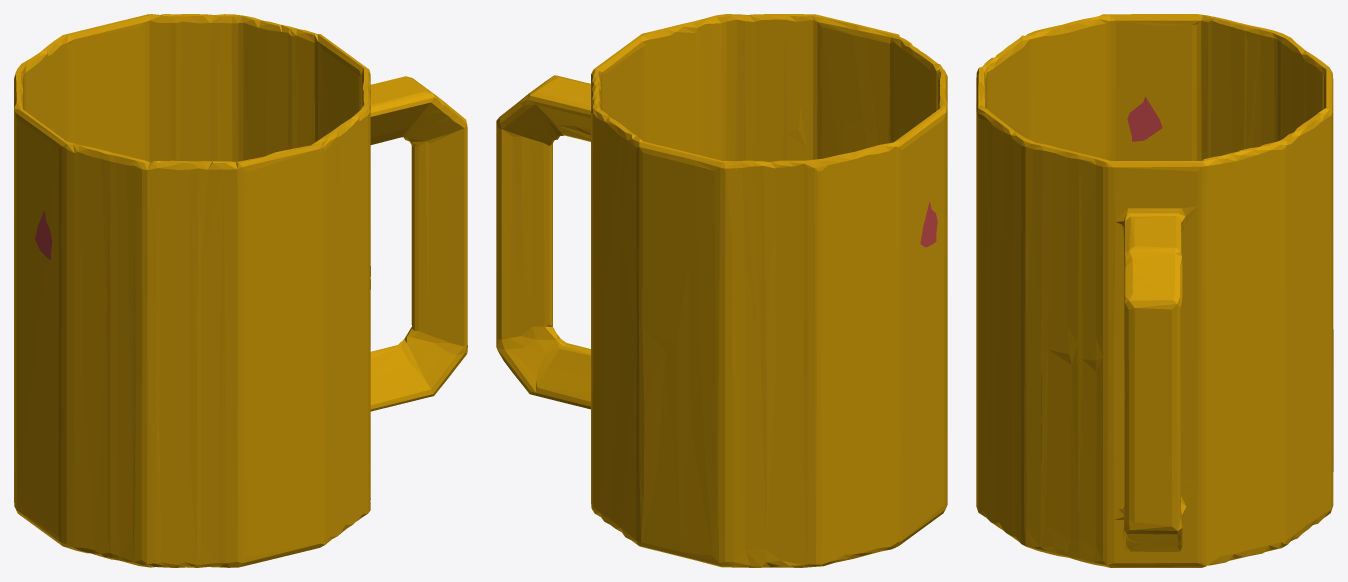
The model's file is fractured_72_2pcs.glb.
3 renders of one model, left to right at view 1: azimuth 30°, elevation 25°; view 2: azimuth 150°, elevation 25°; view 3: azimuth 270°, elevation 25°, orthographic.
Parts seen in each view (by area): view 1: piece_0.obj; view 2: piece_0.obj; view 3: piece_0.obj, piece_1.obj.
Part boxes in pixels (<box>): piece_0.obj: <box>14,14,467,567</box>; piece_0.obj: <box>496,14,947,567</box>; piece_0.obj: <box>976,14,1333,567</box>; piece_1.obj: <box>1127,97,1162,141</box>.
Size of the model in its own units: 1 by 0.9343 by 0.74.
